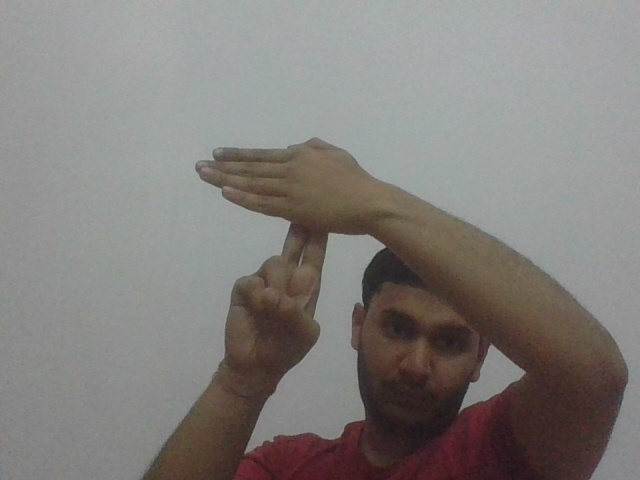N: (194, 135, 357, 273)
